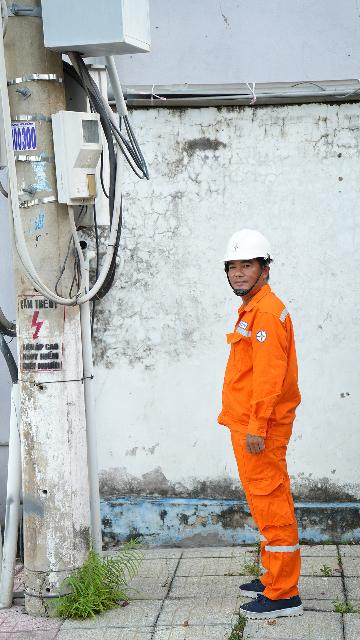helmet: (219, 229, 277, 271)
shoes: (223, 590, 312, 618), (238, 572, 317, 598)
